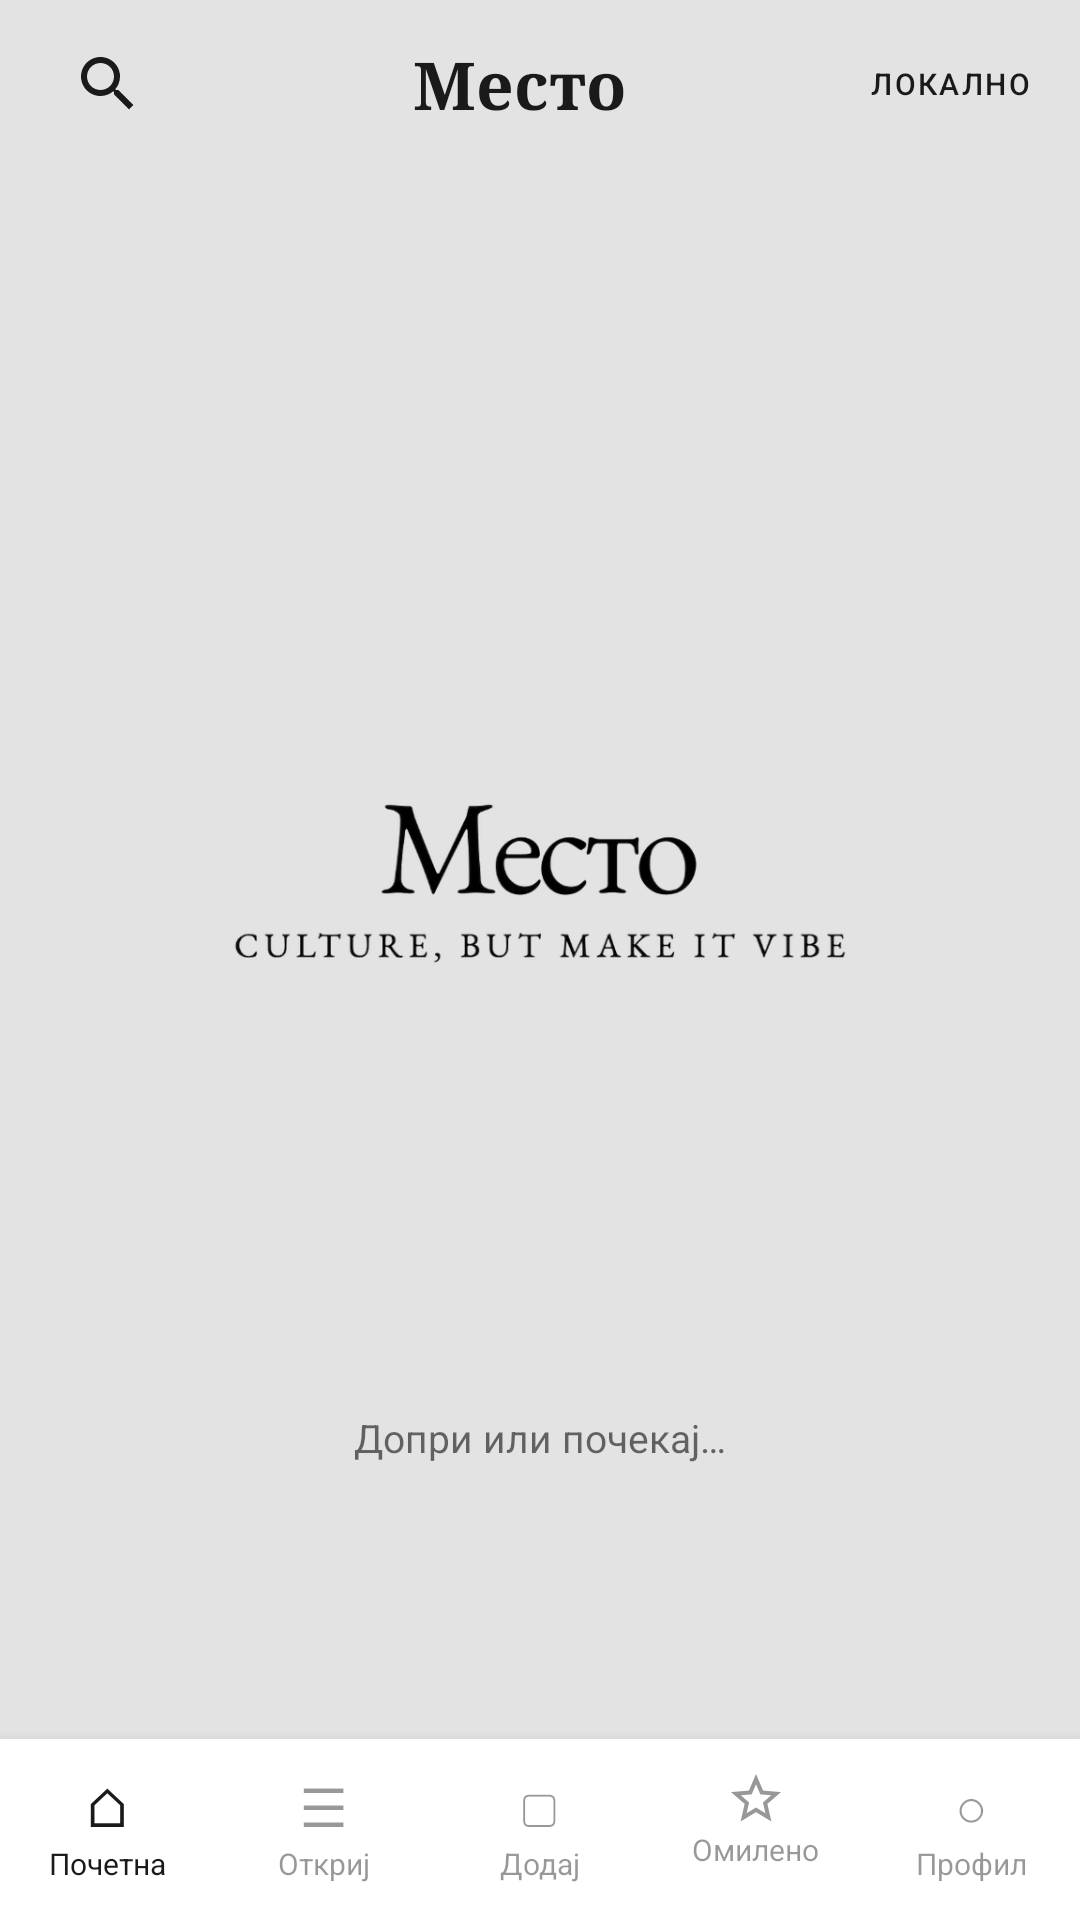

Locate icon controls on the screen. Image size 1080px x 1920px, boxes as (x1, y1, x2, y2).
star: (731, 1775, 781, 1821)
Пребарај: (81, 57, 133, 109)
